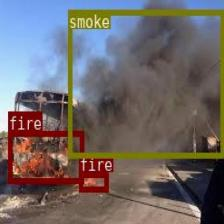fire: (8, 130, 82, 182), (79, 171, 107, 191)
smoke: (68, 9, 224, 158)
